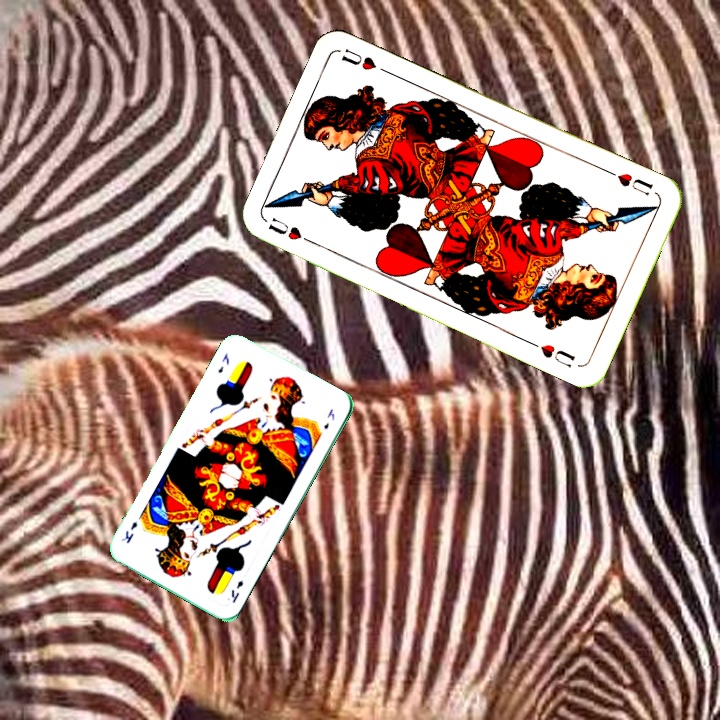EK: (227, 576, 246, 606), (213, 349, 232, 376)
HU: (264, 213, 318, 247), (603, 166, 656, 198)
